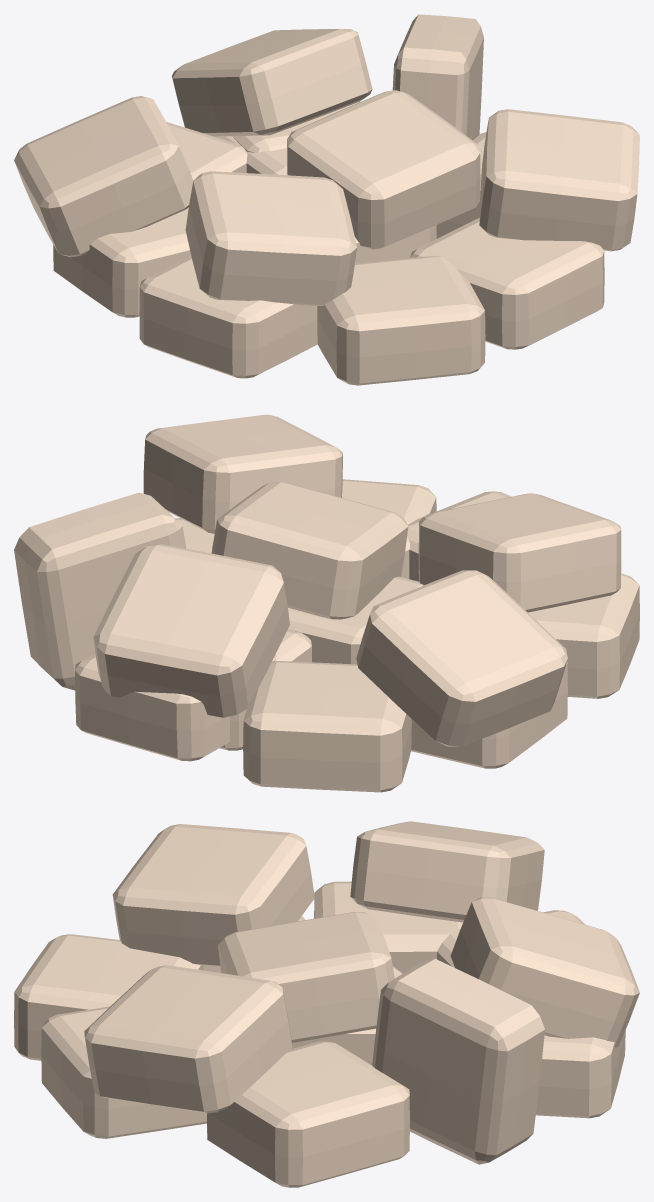
File: melting_shapes.fbx
The picture shows the model from 3 angles, top to bottom: view 1: azimuth 30°, elevation 25°; view 2: azimuth 150°, elevation 25°; view 3: azimuth 270°, elevation 25°; orthographic projection. The views are drawn at different scales.
Visible parts, largest first — view 1: Sugar; view 2: Sugar; view 3: Sugar.
Part boxes in pixels (bbox=[...]): Sugar: bbox=[14, 14, 639, 385]; Sugar: bbox=[14, 414, 639, 792]; Sugar: bbox=[14, 821, 639, 1187].
Bounding box in the file's own units: 70.69 × 20.64 × 70.81.
